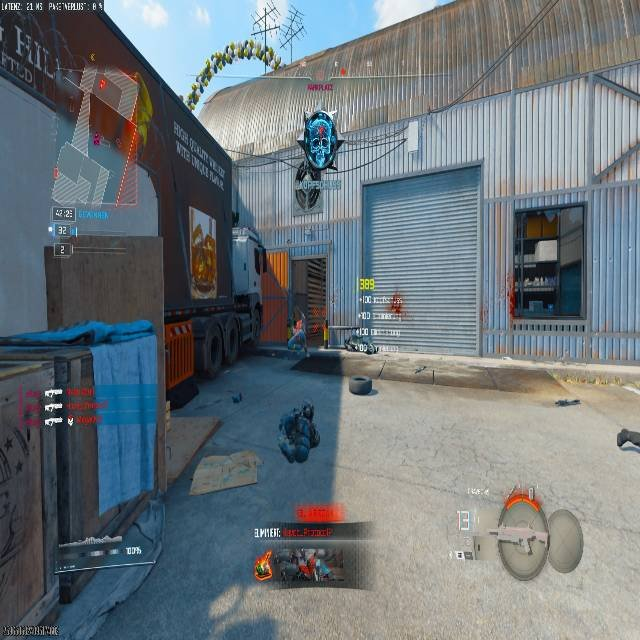player: (297, 104, 344, 185), (286, 312, 308, 357)
